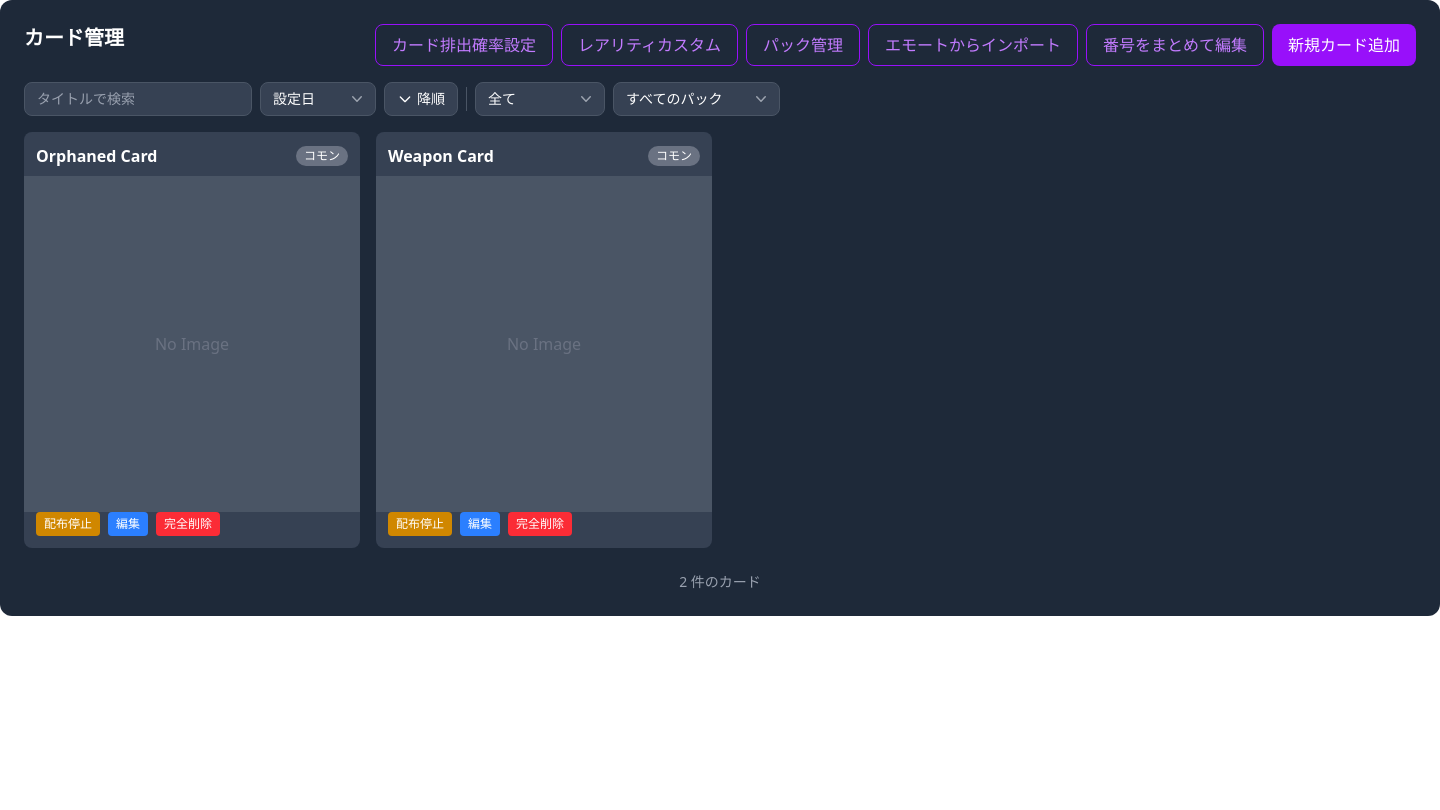
Test: CardManager pack filter › includes an orphaned collection_name (removed from the catalog) as a filter option
The image size is (1440, 810).
Select "discontinued-pack" in the dropdown named "カードパックで絞り込む" at point(696, 99), box [613, 82, 780, 116]
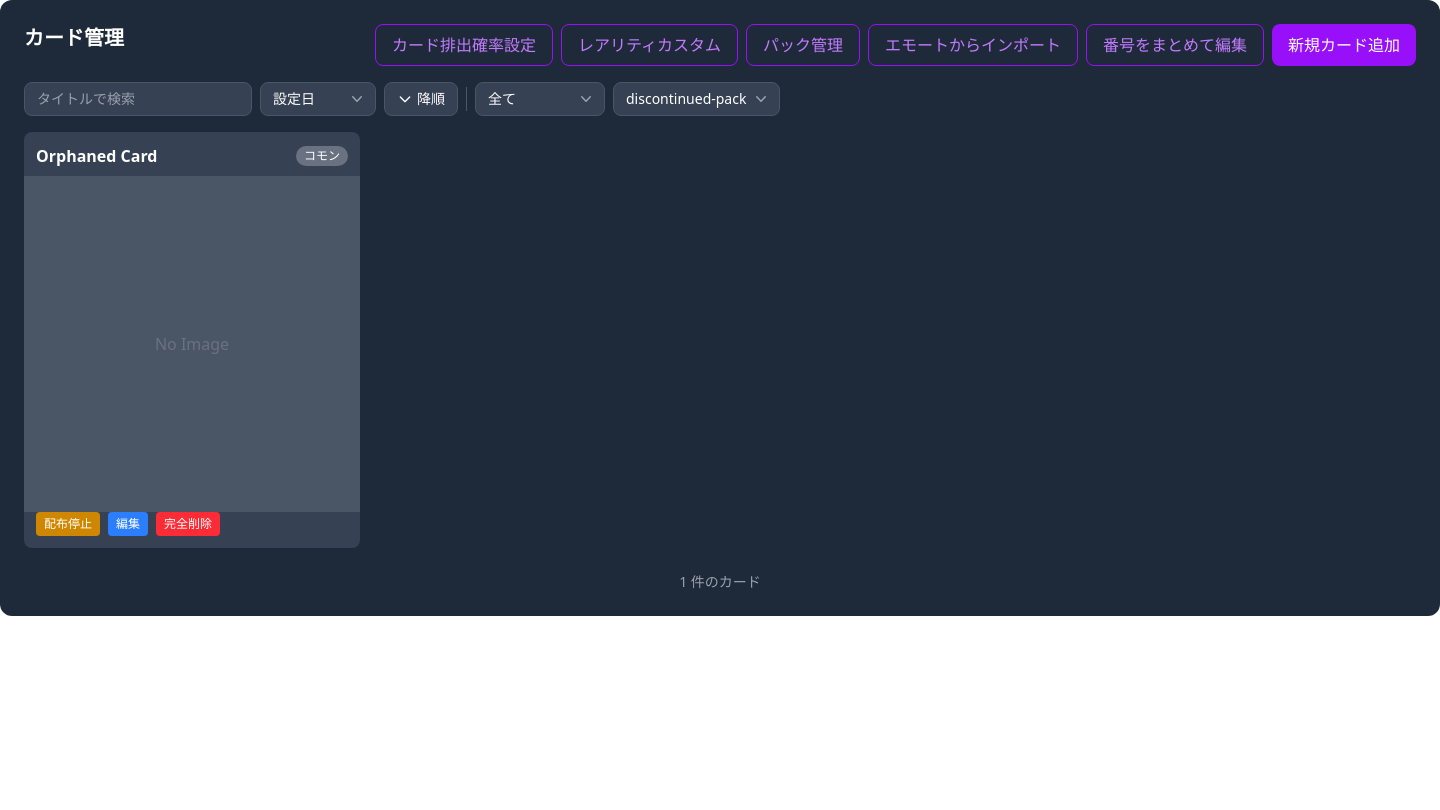
Check: the heading "Orphaned Card" is shown, box [36, 144, 158, 168]
Check: the heading "Weapon Card" is gone
